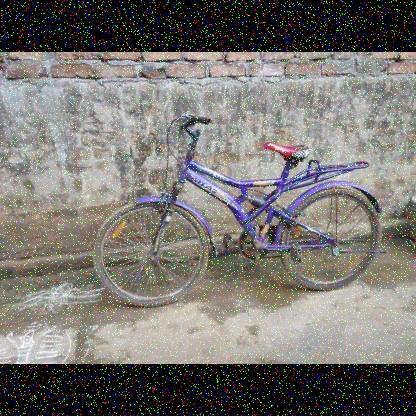Bicycle: (83, 102, 400, 327)
